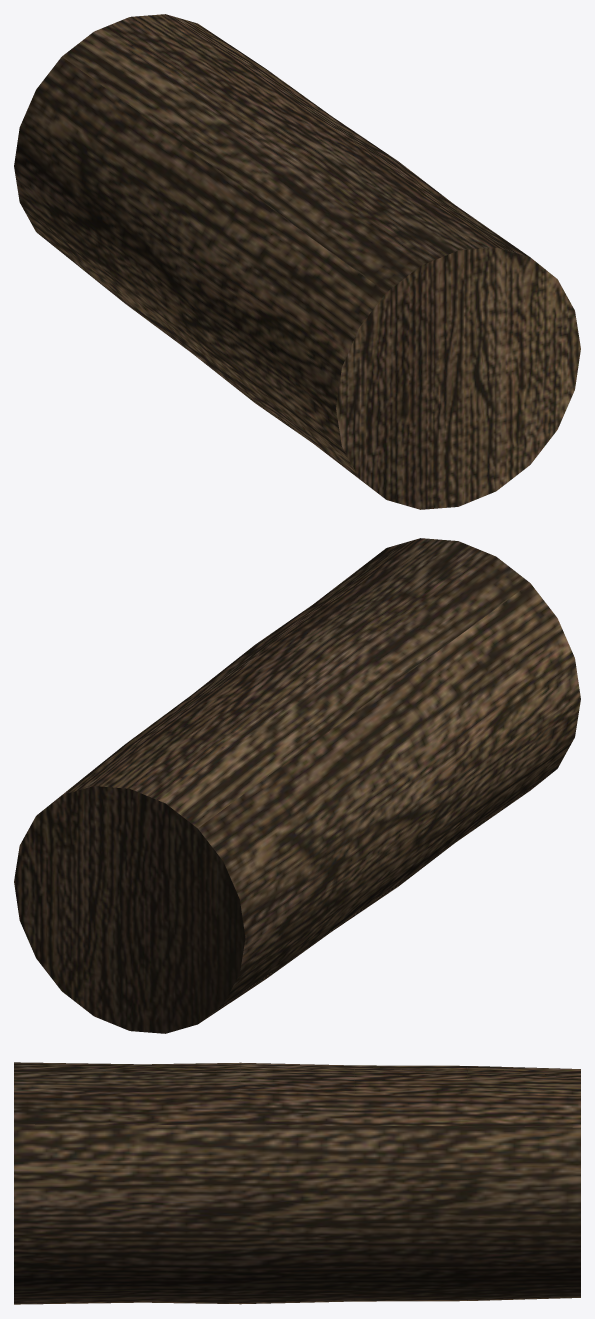
Rendered from wood.fbx.
The picture shows the model from 3 angles, top to bottom: view 1: azimuth 30°, elevation 25°; view 2: azimuth 150°, elevation 25°; view 3: azimuth 270°, elevation 25°; orthographic projection. The views are drawn at different scales.
Visible parts, largest first — view 1: pCylinder1; view 2: pCylinder1; view 3: pCylinder1.
Part boxes in pixels (<box>): pCylinder1: <box>14,14,580,509</box>; pCylinder1: <box>14,538,580,1033</box>; pCylinder1: <box>14,1062,580,1304</box>.
Bounding box in the file's own units: 28.03 × 28.03 × 65.12.
